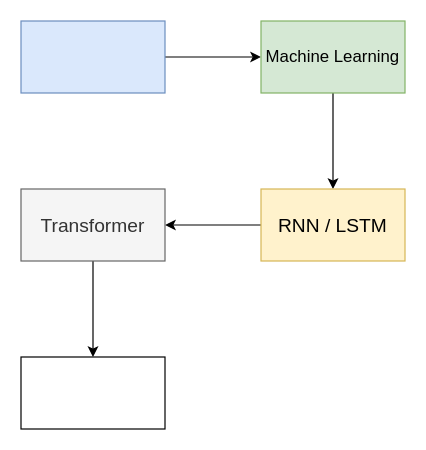
This 426x450 diagram has some shape labels left out. Each missing label, with the centre of its shape:
Informer: the point at 92,392
Statistical Models: the point at 92,56
